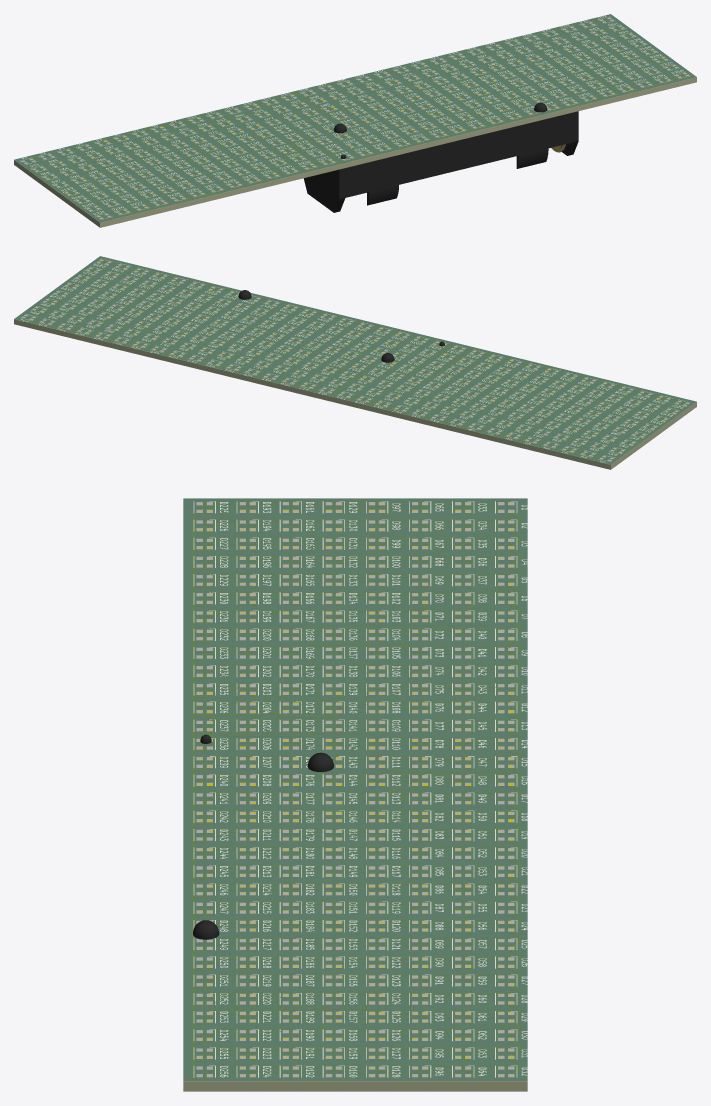
The model's file is i-pane-campzone-2019-badge.glb.
3 renders of one model, top to bottom at view 1: azimuth 30°, elevation 25°; view 2: azimuth 150°, elevation 25°; view 3: azimuth 270°, elevation 25°, orthographic. The views are drawn at different scales.
Visible parts, largest first — view 1: =>[0:1:1:7], =>[0:1:1:3]; view 2: =>[0:1:1:7], =>[0:1:1:3]; view 3: =>[0:1:1:7], =>[0:1:1:3].
Part boxes in pixels (x1,y1,x2,y2): =>[0:1:1:7]: (14,14,696,227); =>[0:1:1:3]: (21,17,689,219); =>[0:1:1:7]: (14,256,696,469); =>[0:1:1:3]: (21,259,689,461); =>[0:1:1:7]: (183,498,527,1091); =>[0:1:1:3]: (192,501,522,1078).
Bounding box in the file's own units: 0.192 × 0.0198 × 0.048.
Materials: 2 (2 with a texture image).
